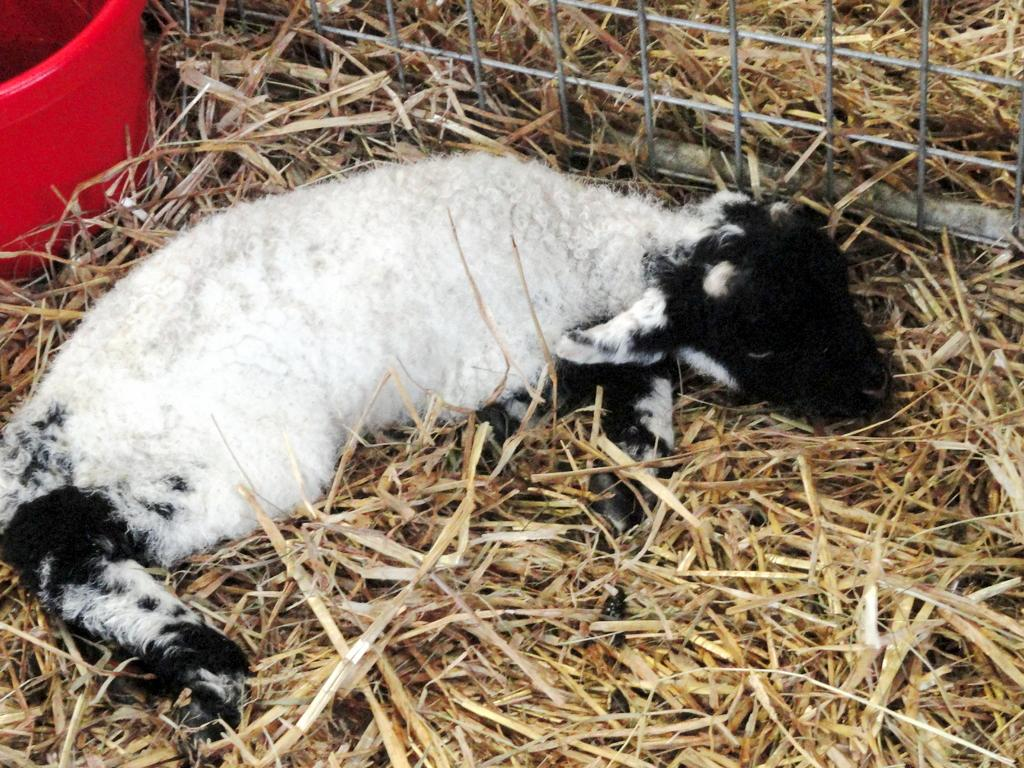Sheep: (0, 153, 890, 768)
